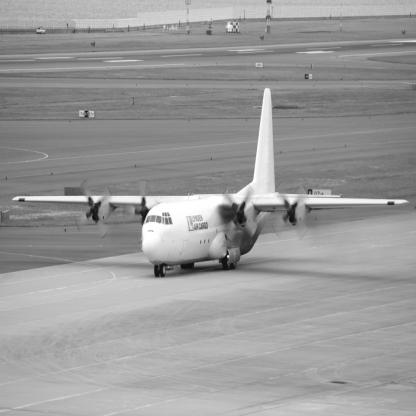C130: (13, 89, 411, 278)
